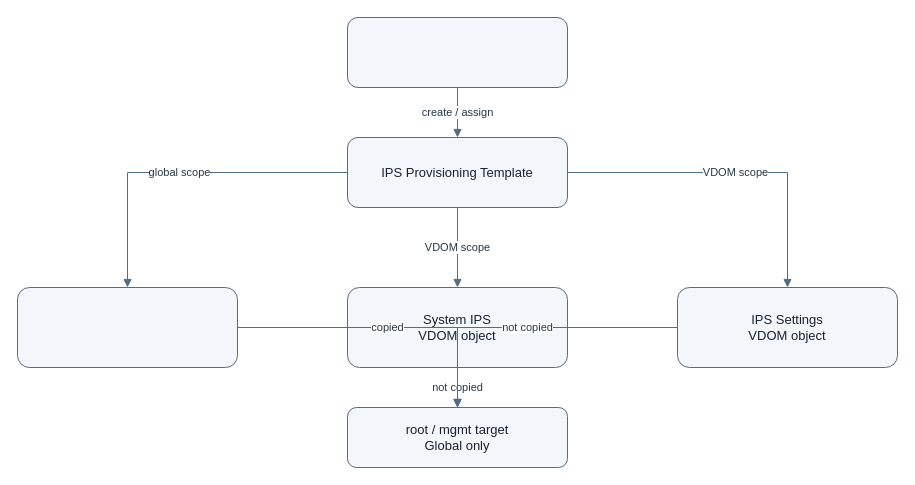
The diagram is 915 pixels wide and 485 high, and some of its shapes have lost their labels. Here are the shapes that lost their labels. From the top down, the centre of each, then its label:
At point 457,52: "FortiManager ADOM".
At point 127,327: "IPS Global Global object".
